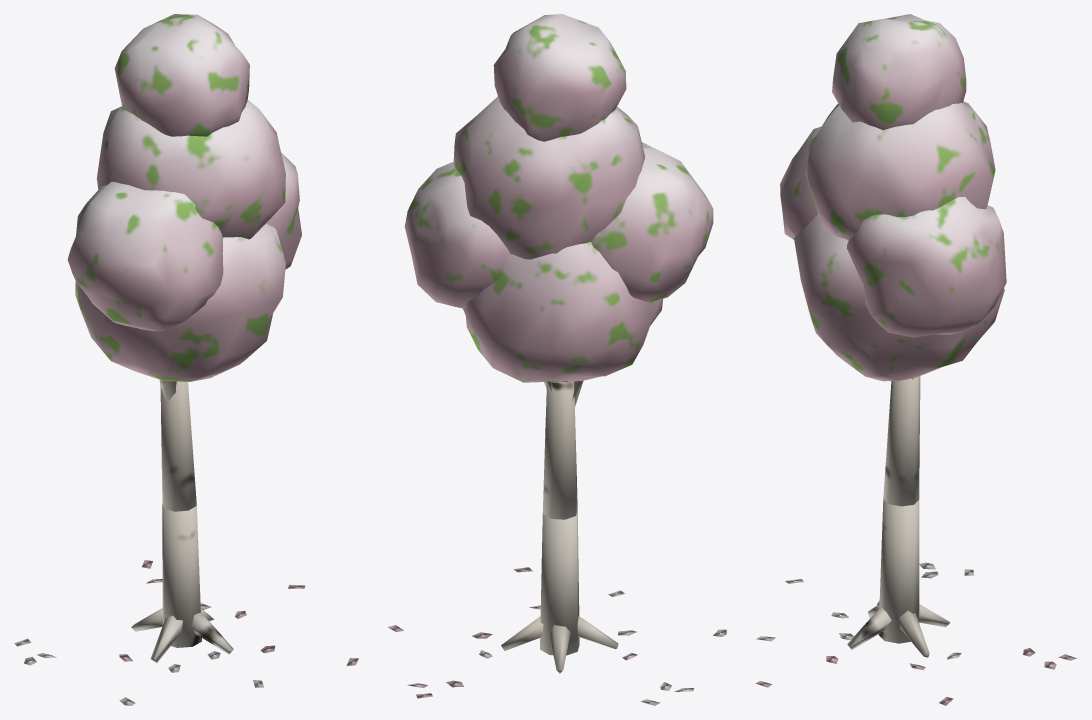
The model's file is season_decid_b_spring.glb.
3 views of the same model, side by side, from view 1: azimuth 30°, elevation 25°; view 2: azimuth 150°, elevation 25°; view 3: azimuth 270°, elevation 25° (orthographic).
Visible parts, largest first — view 1: branches; view 2: branches; view 3: branches.
Boxes of the visible parts, x1,y1,x2,y2 form: branches: (14, 14, 358, 705); branches: (388, 14, 726, 705); branches: (755, 14, 1076, 705).
Size of the model in its own units: 2.15 by 4.38 by 2.05.
1 material, 1 textured.
